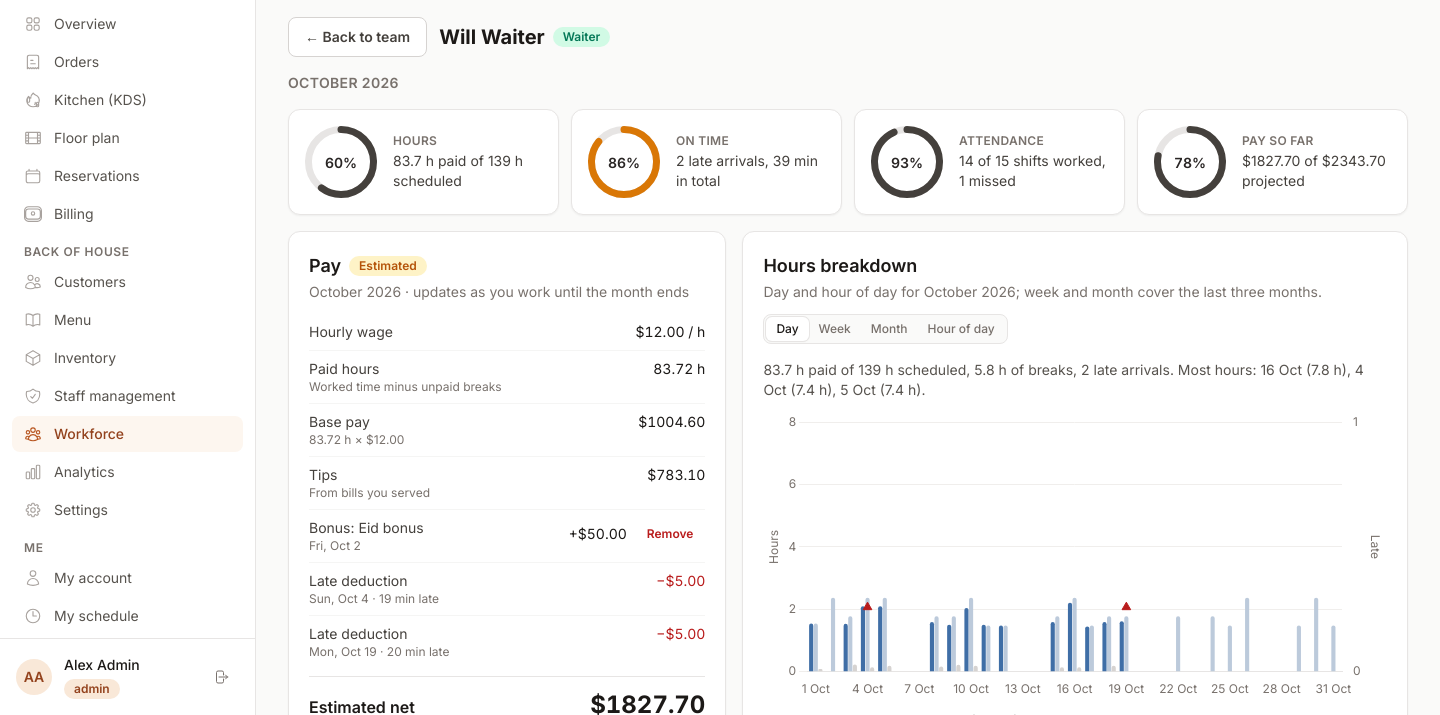
Test: WorkforcePage › opens a shared ?staff= link straight on the drill-down and closes it in place
Expected: the heading "Will Waiter" is shown, [439,23,545,51]
Click the button "← Back to team".
click(358, 37)  # box [288,17,427,57]
(page scrolled)
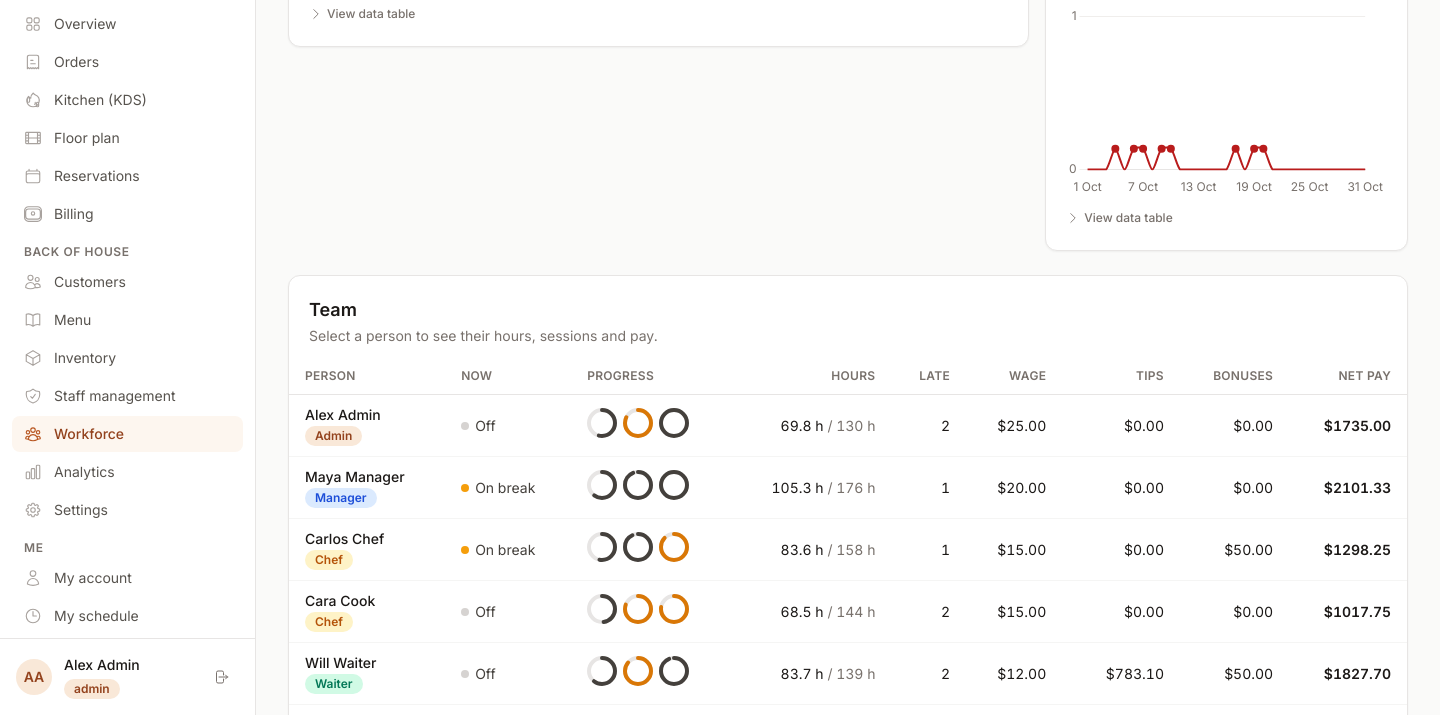
Now the heading "Team" is shown, box [309,299,357,320]
